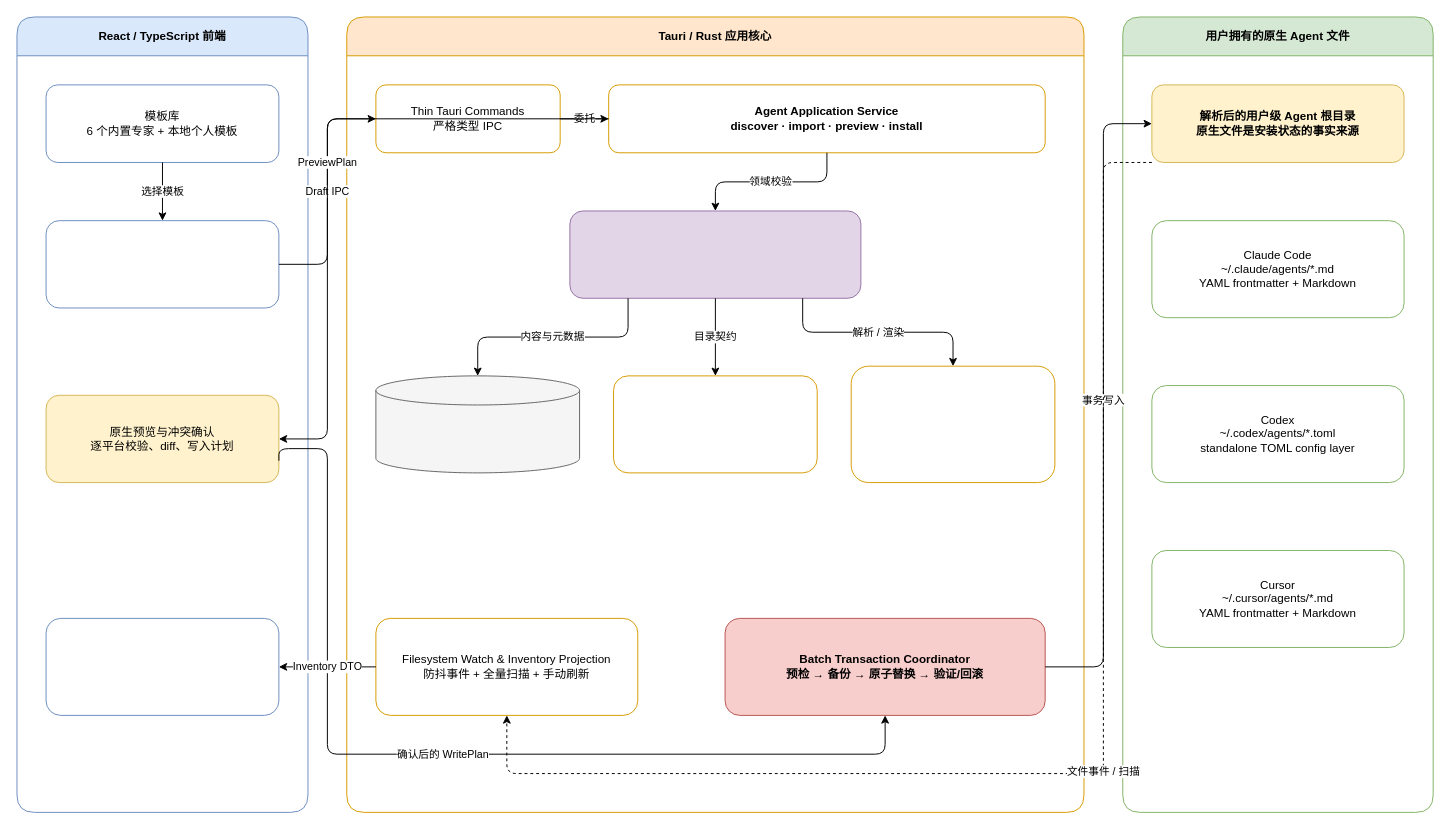
Some shapes in this 1450 by 829 pixel diagram are drawn without their labels. Here are the shapes that lost their labels. From the top down, the centre of each, then its label:
pixel 162 264: 引导式编辑器 结构化共享核心 + 平台覆盖
pixel 715 254: Canonical Agent Model 共享章节 + 强类型平台扩展
pixel 477 424: Template Repository 文件化正文 + SQLite 索引/设置
pixel 715 424: Path Resolver 用户覆盖 → 已核验环境变量 → 默认
pixel 952 424: Adapter Registry Claude Markdown/YAML Codex TOML Cursor Markdown/YAML
pixel 162 666: 已安装与设置 逻辑名称聚合、路径、手动刷新
